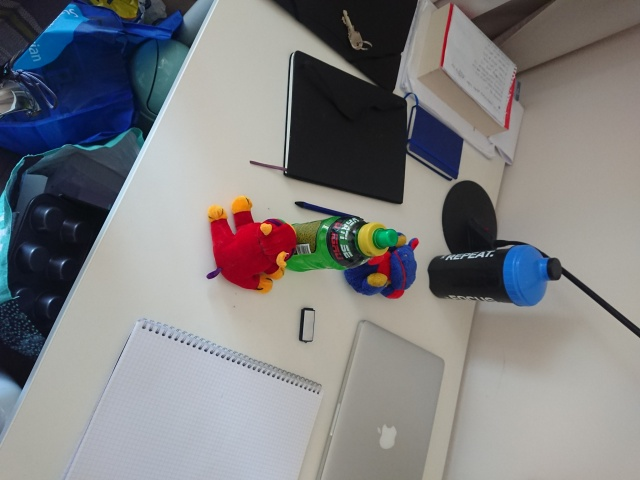Vindi Iso Sport Lemon-Grapefruit 500mL: (274, 213, 400, 274)
